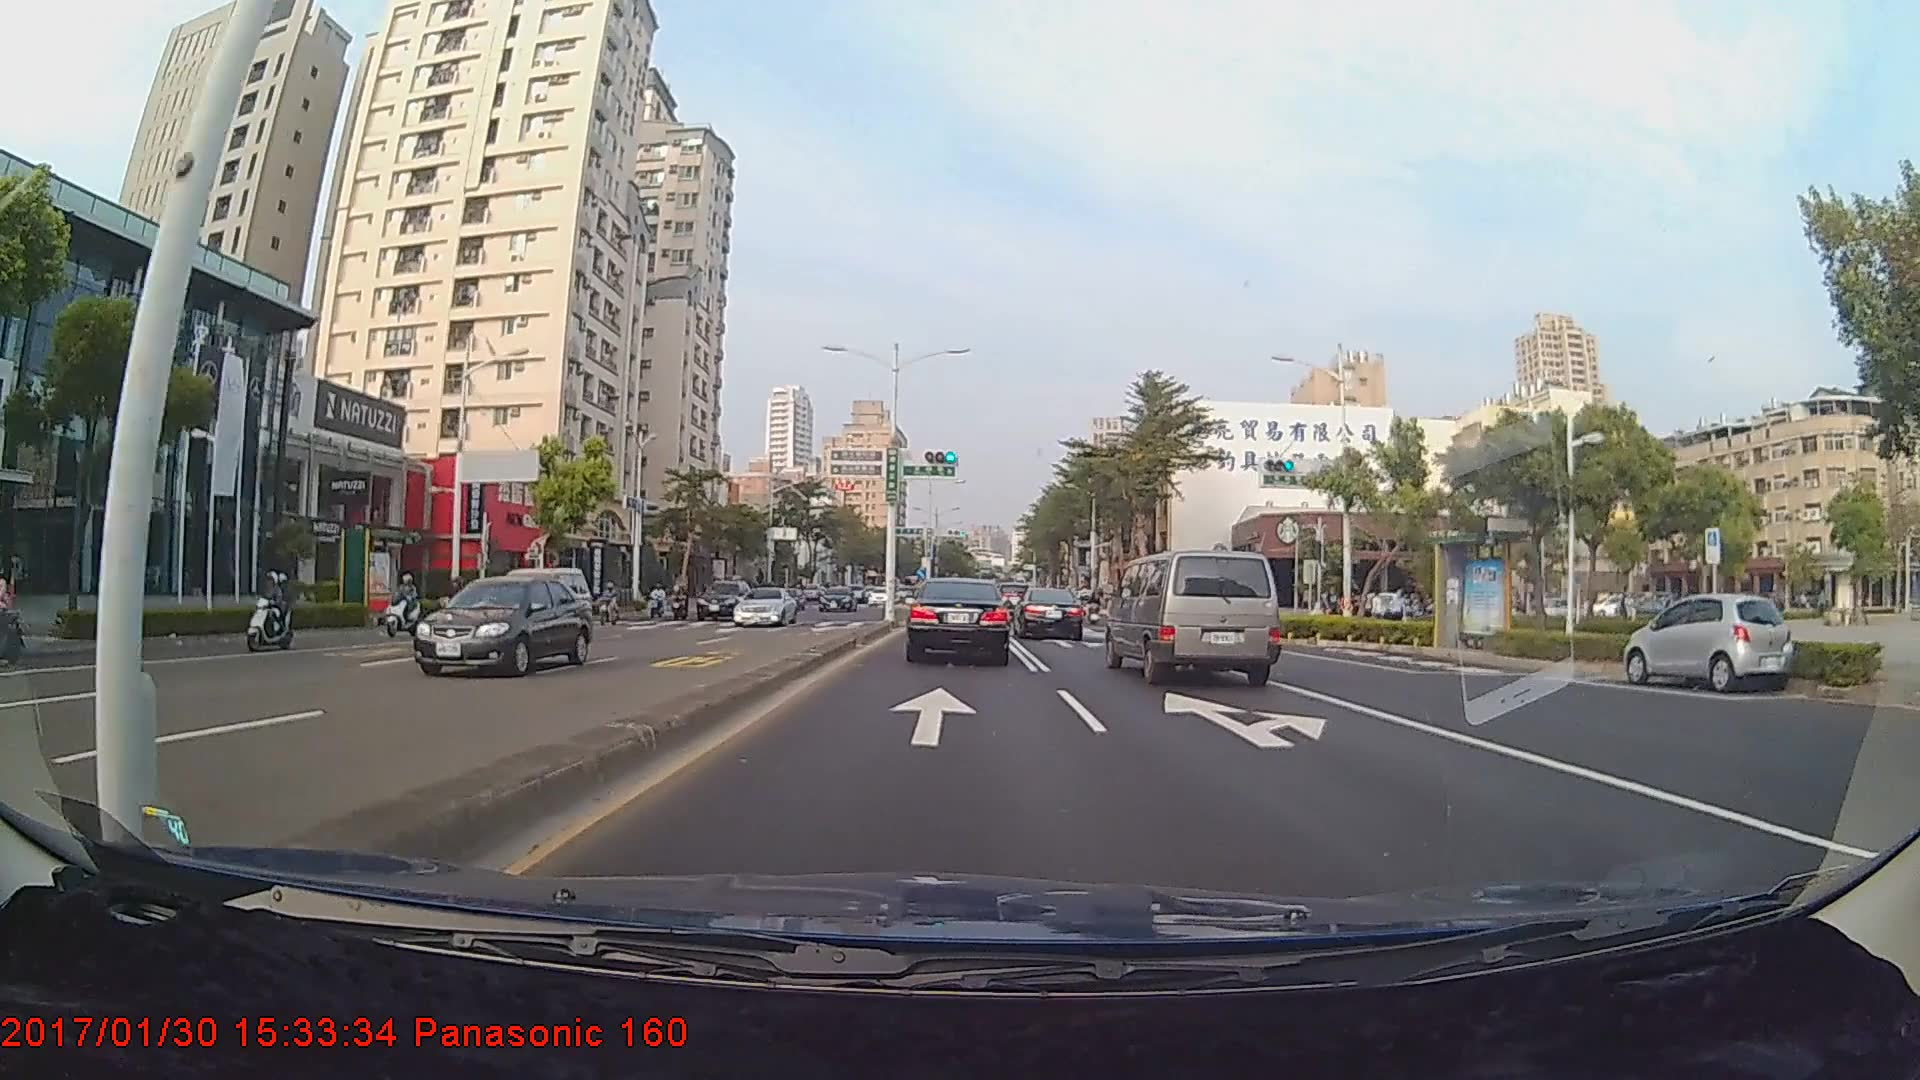rider: (243, 570, 300, 652), (1, 563, 34, 672), (382, 570, 424, 638), (595, 578, 628, 624)
vehicle: (1104, 545, 1282, 692), (409, 574, 594, 677), (1626, 591, 1792, 693), (907, 576, 1011, 663), (467, 566, 589, 633), (1010, 587, 1085, 641), (730, 583, 795, 626), (693, 578, 752, 620), (817, 584, 859, 614)
